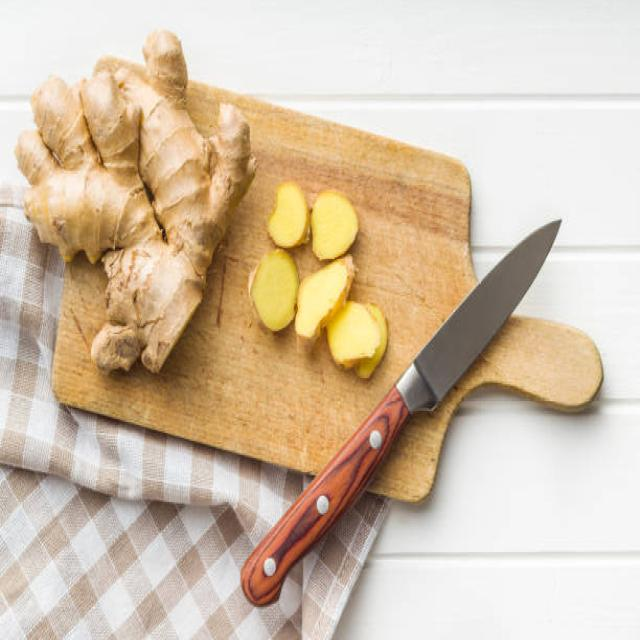ginger-root: (15, 21, 258, 397)
